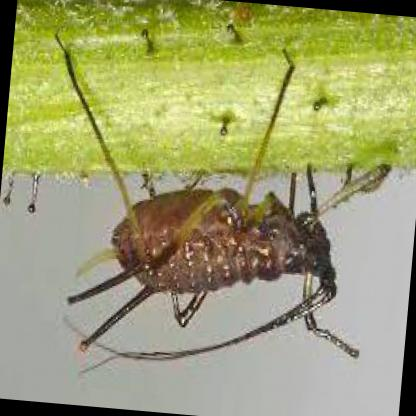uroleucon compositae: (64, 68, 339, 356)
